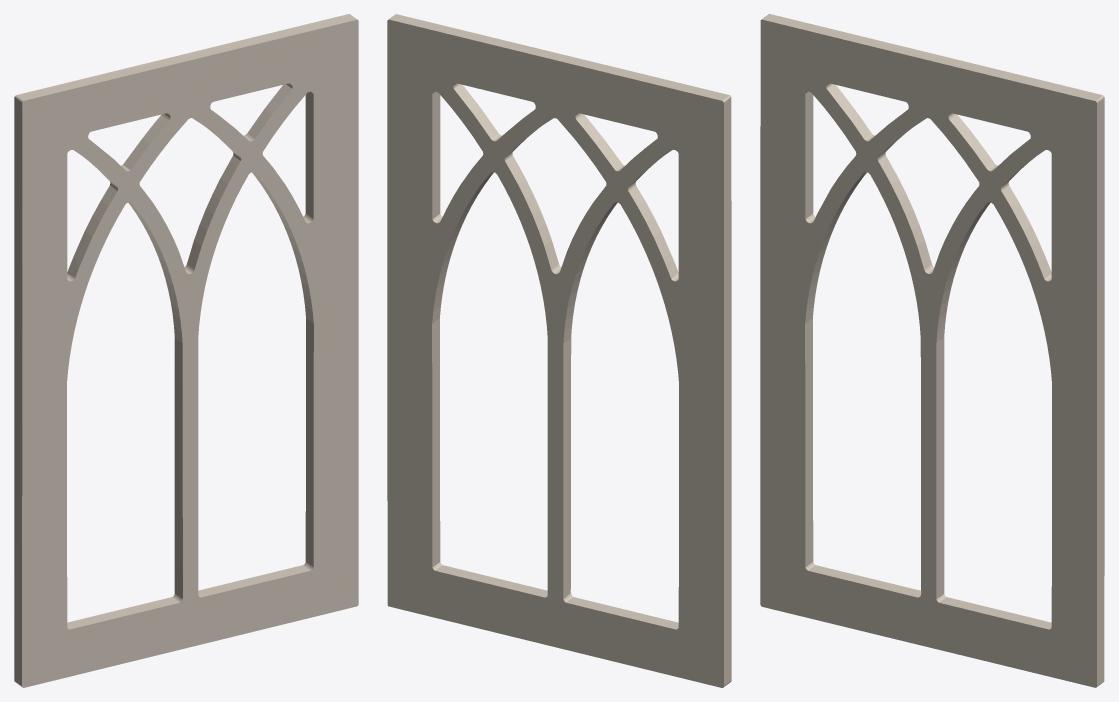
Rendered from nrd-cam-110.glb.
The picture shows the model from 3 angles, left to right: view 1: azimuth 30°, elevation 25°; view 2: azimuth 150°, elevation 25°; view 3: azimuth 330°, elevation 25°; orthographic projection.
Parts seen in each view (by area): view 1: NRD CAM 110; view 2: NRD CAM 110; view 3: NRD CAM 110.
Boxes of the visible parts, left/top/right/bottom form: NRD CAM 110: left=14, top=14, right=358, bottom=687; NRD CAM 110: left=387, top=14, right=731, bottom=687; NRD CAM 110: left=760, top=14, right=1104, bottom=687.
Size of the model in its own units: 0.4499 by 0.7499 by 0.018.
